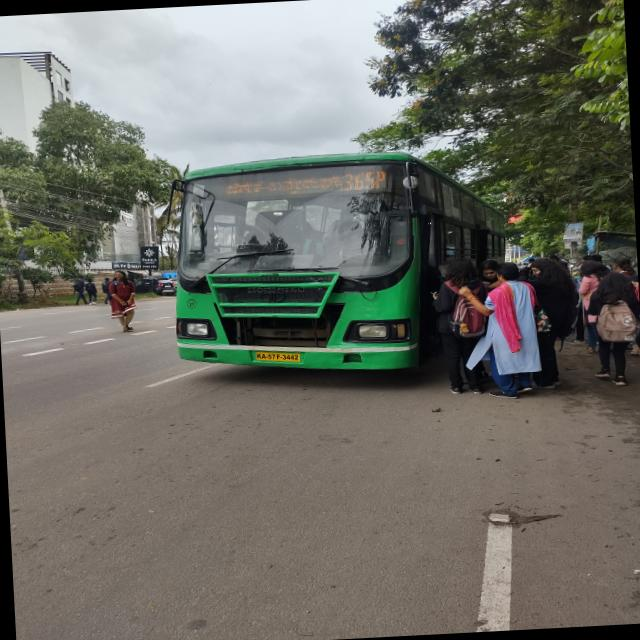bus: (170, 152, 460, 388)
display: (214, 170, 388, 202)
dnumber: (345, 171, 386, 191)
